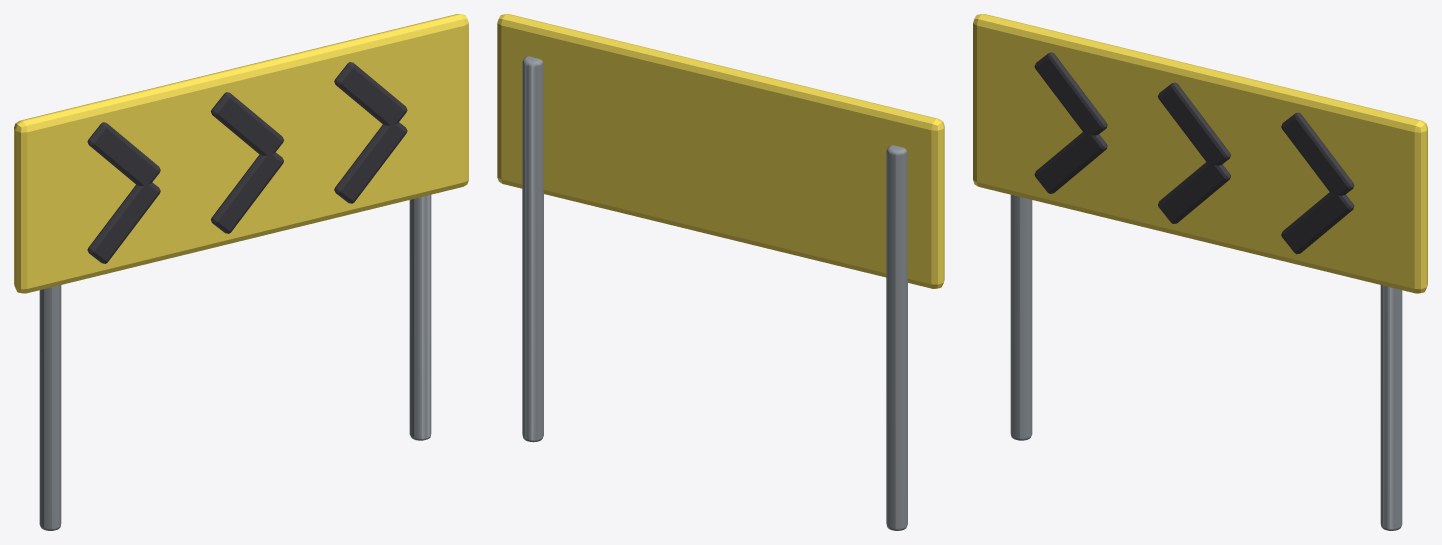
The model's file is chevron_sign.fbx.
3 renders of one model, left to right at view 1: azimuth 30°, elevation 25°; view 2: azimuth 150°, elevation 25°; view 3: azimuth 330°, elevation 25°, orthographic.
Parts seen in each view (by area): view 1: Visual; view 2: Visual; view 3: Visual.
Part boxes in pixels (x1,y1,x2,y2): Visual: [14, 14, 468, 530]; Visual: [497, 14, 944, 530]; Visual: [973, 14, 1427, 530].
Size of what is drawn, in the model's own units: 220 by 195 by 16.57.
